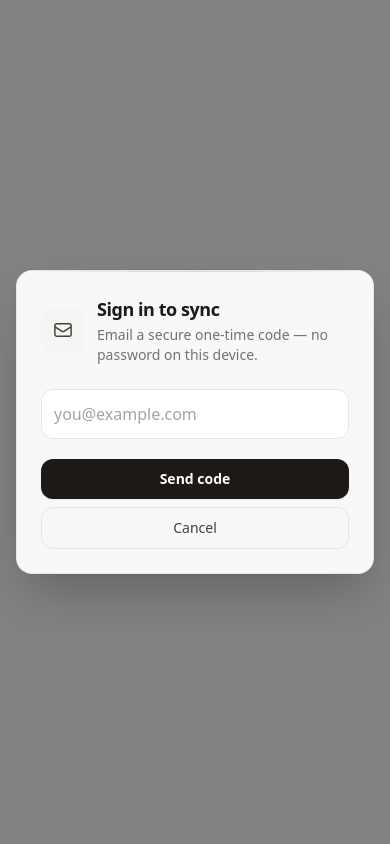
Test: sign out and sign in scenarios › Test 1: no local notes — sign in to an existing cloud account reaches the code step (remote can restore)
Type "cloud-user@example.com" into the field with placeholder "you@example.com" at (195, 414), box [41, 389, 349, 439]
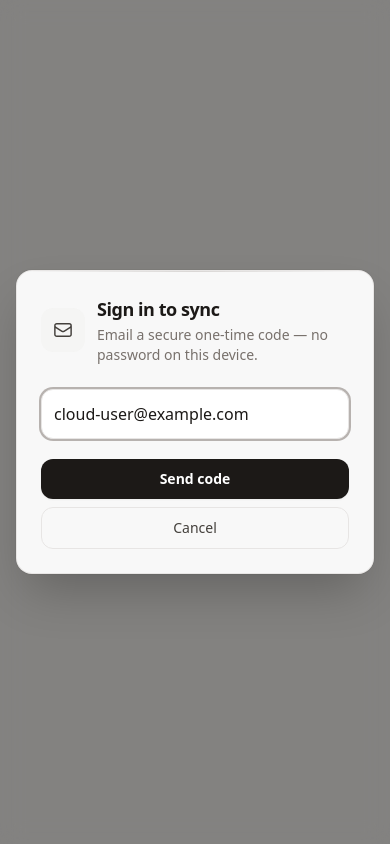
Click the button "Send code" at (195, 479), box [41, 459, 349, 499]
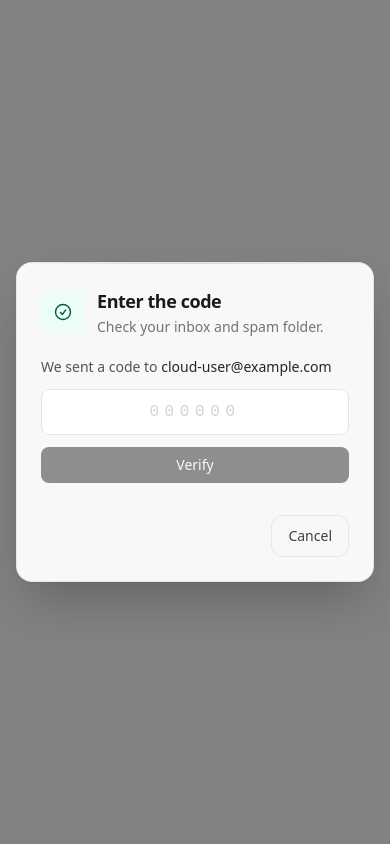
Expected: the heading "Enter the code" is shown, [97, 289, 221, 313]
